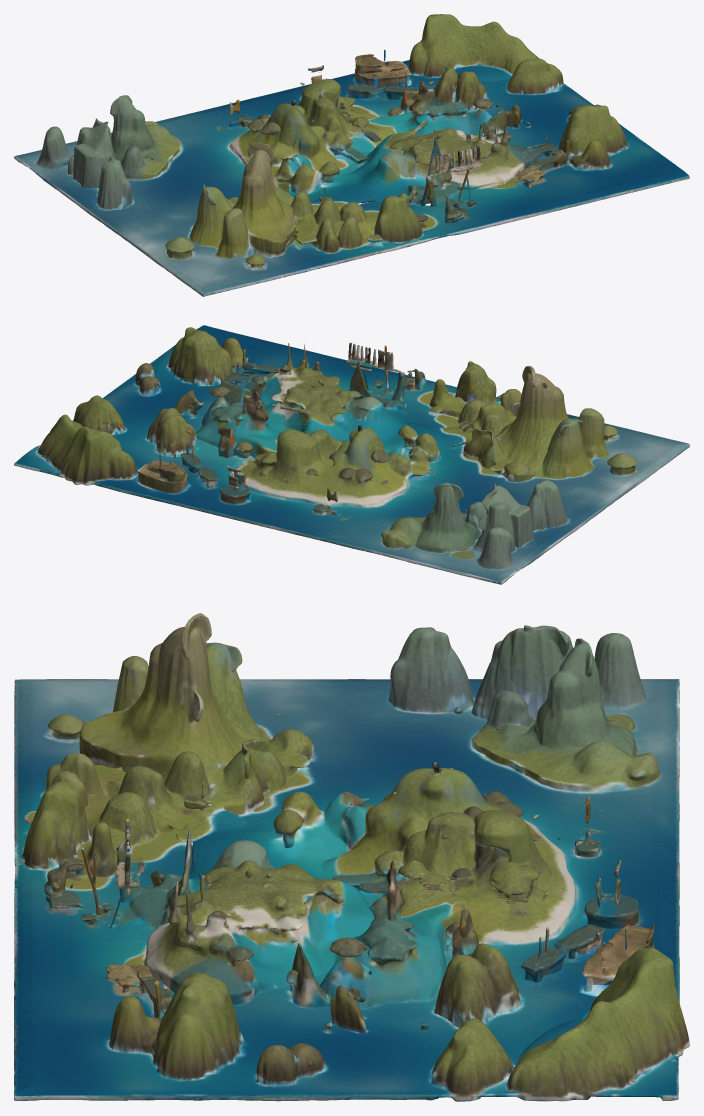
File: Visayas.fbx
3 views of the same model, one above another, from view 1: azimuth 30°, elevation 25°; view 2: azimuth 150°, elevation 25°; view 3: azimuth 270°, elevation 25° (orthographic). The views are drawn at different scales.
Parts seen in each view (by area): view 1: tripo_node_f09b36b1; view 2: tripo_node_f09b36b1; view 3: tripo_node_f09b36b1.
Part boxes in pixels (left/top/right/bottom): tripo_node_f09b36b1: left=14, top=14, right=689, bottom=296; tripo_node_f09b36b1: left=14, top=325, right=689, bottom=584; tripo_node_f09b36b1: left=14, top=613, right=689, bottom=1101.
Size of the model in its own units: 100 by 19.25 by 68.32.
1 material, 1 textured.
